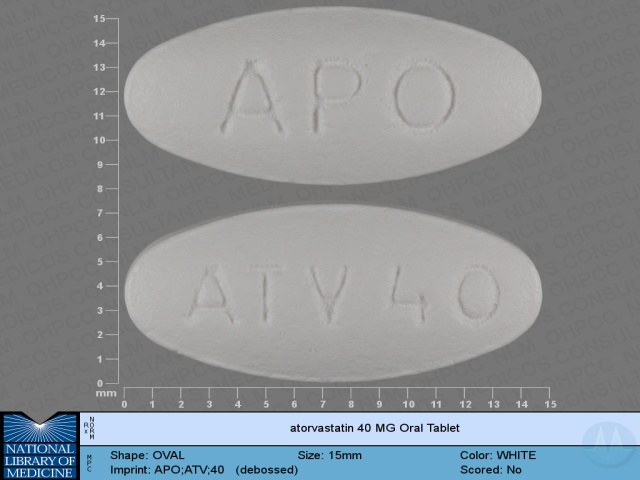0: (450, 263, 508, 324)
4: (380, 262, 433, 329)
A: (218, 58, 286, 140), (182, 262, 239, 327)
O: (389, 56, 458, 135)
P: (307, 58, 365, 139)
T: (241, 262, 289, 324)
V: (302, 262, 359, 325)
